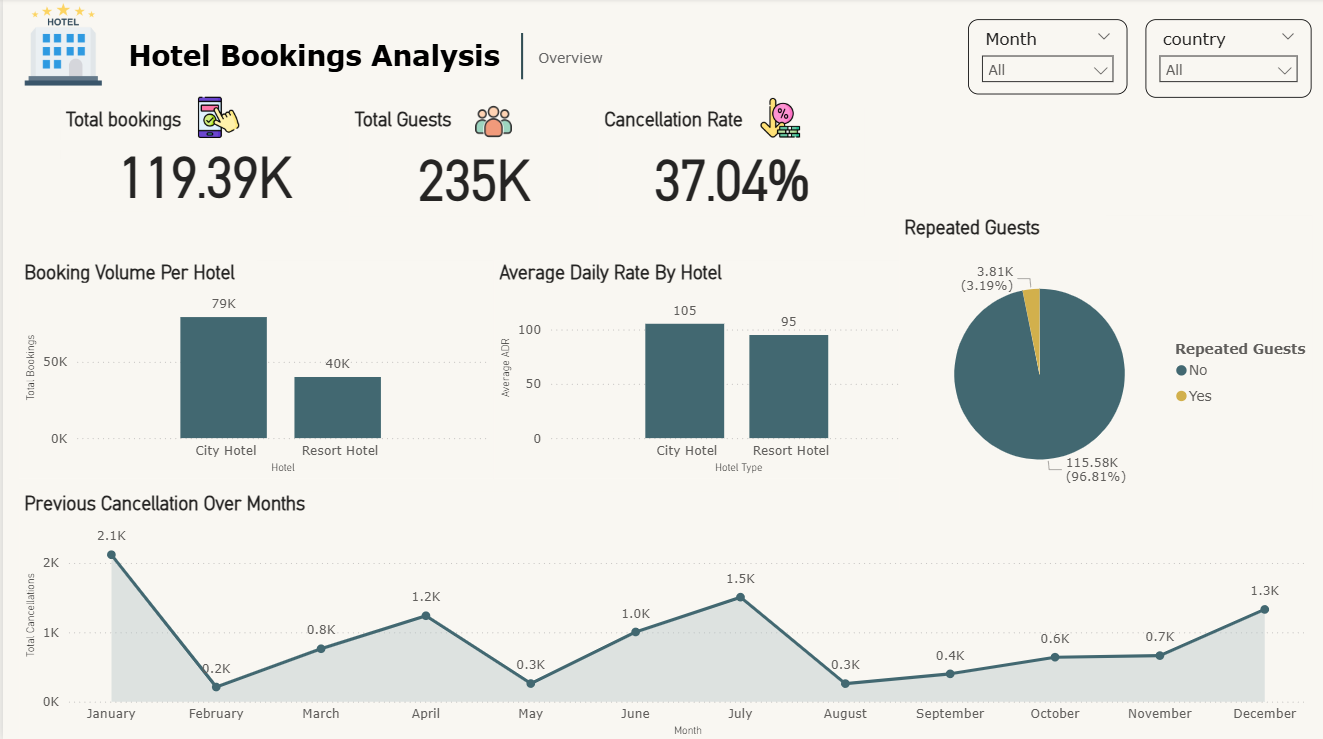

Layout of this report page (visuals, bound fields, positions):
{"tool":"powerbi","page":{"name":"Page 1","canvas":[1280,720],"ordinal":0},"visuals":[{"type":"textbox","box":[116,34,394,58],"z":0},{"type":"slicer","fields":{"Values":["hotel_bookings.country"]},"box":[1106.9,20.5,161.1,75.8],"z":1000},{"type":"slicer","fields":{"Values":["hotel_bookings.arrival_date_month"]},"box":[934.7,20.5,154.7,72.6],"z":2000},{"type":"card","title":"Total bookings","fields":{"Values":["CountNonNull(hotel_bookings.hotel)"]},"box":[55.4,106.2,280,100],"z":3000},{"type":"card","title":"Total Guests","fields":{"Values":["hotel_bookings.total_guests"]},"box":[335.4,106.2,241.7,105],"z":4000},{"type":"card","title":"Cancellation Rate","fields":{"Values":["hotel_bookings.cancellation_rate"]},"box":[577.1,106.2,256.7,105],"z":5000},{"type":"lineChart","title":"Previous Cancellation Over Months","fields":{"Y":["Sum(hotel_bookings.previous_cancellations)"],"Category":["hotel_bookings.reservation_status_date.Variation.Date Hierarchy.Month"]},"box":[15.6,478.3,1252,242.3],"z":6000},{"type":"image","box":[0,0,116,90],"z":7000},{"type":"clusteredColumnChart","title":"Booking Volume Per Hotel","fields":{"Category":["hotel_bookings.hotel"],"Y":["CountNonNull(hotel_bookings.hotel)"]},"box":[15.6,254.8,459.5,211],"z":8000},{"type":"columnChart","title":"Average Daily Rate By Hotel","fields":{"Y":["Avg(hotel_bookings.adr)"],"Category":["hotel_bookings.hotel"]},"box":[475.1,254.8,423.6,211],"z":9000},{"type":"pieChart","title":"Repeated Guests","fields":{"Category":["hotel_bookings.Is_Repeated"],"Y":["CountNonNull(hotel_bookings.hotel)"]},"box":[867.5,211,400.1,286],"z":10000},{"type":"image","box":[183.8,91.2,50,50],"z":12000},{"type":"image","box":[438.8,89.6,73.3,60],"z":13000},{"type":"image","box":[728.8,89.6,48.3,53.3],"z":14000},{"type":"shape","box":[428.3,33.3,148.3,45],"z":15000},{"type":"textbox","box":[513.3,45,96.7,43.3],"z":16000}]}

Visuals, with their boxes in screenshot pixels (x1, y1, x2, y2), scaled from the page's 1280x720 canvas onto the 1323x739 screenshot:
textbox: [120, 35, 527, 94]
slicer - hotel_bookings.country: [1144, 21, 1311, 99]
slicer - hotel_bookings.arrival_date_month: [966, 21, 1126, 96]
"Total bookings" card: [57, 109, 347, 212]
"Total Guests" card: [347, 109, 596, 217]
"Cancellation Rate" card: [596, 109, 862, 217]
"Previous Cancellation Over Months" lineChart: [16, 491, 1310, 738]
image: [0, 0, 120, 92]
"Booking Volume Per Hotel" clusteredColumnChart: [16, 262, 491, 478]
"Average Daily Rate By Hotel" columnChart: [491, 262, 929, 478]
"Repeated Guests" pieChart: [897, 217, 1310, 510]
image: [190, 94, 242, 145]
image: [454, 92, 529, 154]
image: [753, 92, 803, 147]
shape: [443, 34, 596, 80]
textbox: [531, 46, 630, 91]
